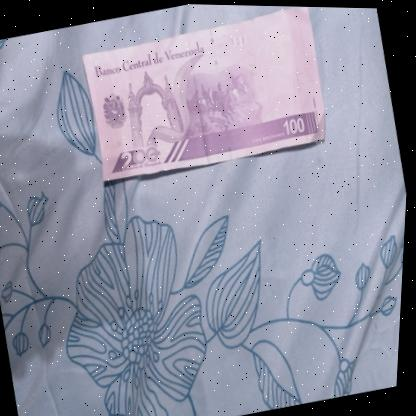one_hundred-back-vef: (74, 1, 337, 188)
